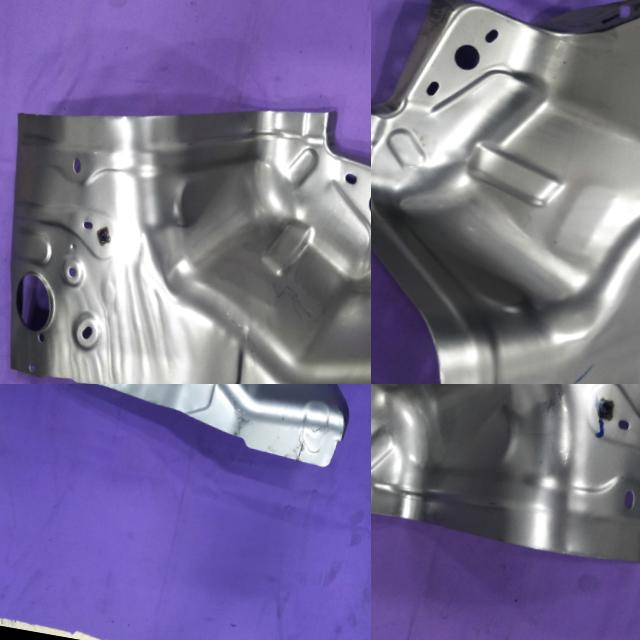Healthy: (0, 51, 371, 384), (371, 0, 640, 384), (371, 384, 640, 578)
rust: (282, 425, 320, 467)
